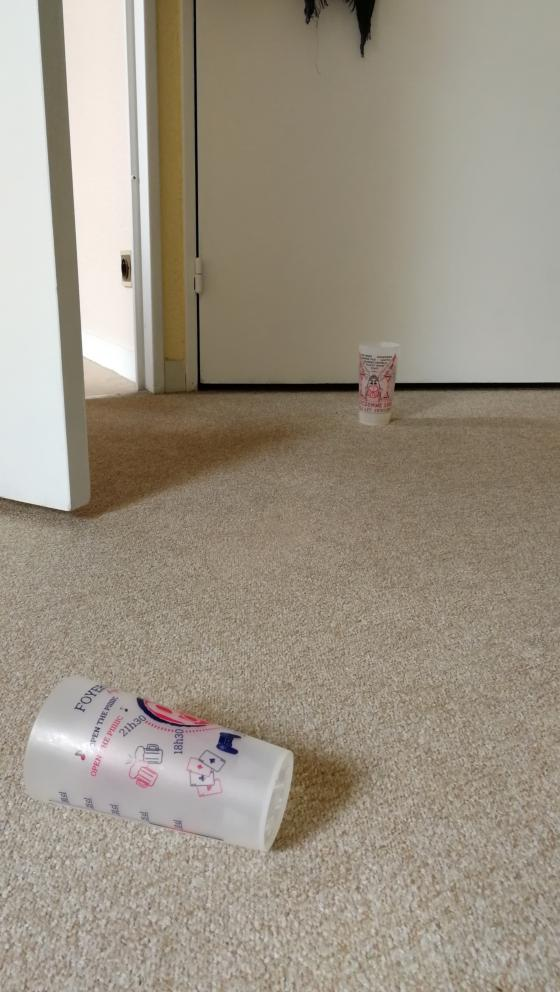ecocup: (24, 676, 293, 851), (357, 341, 399, 425)
